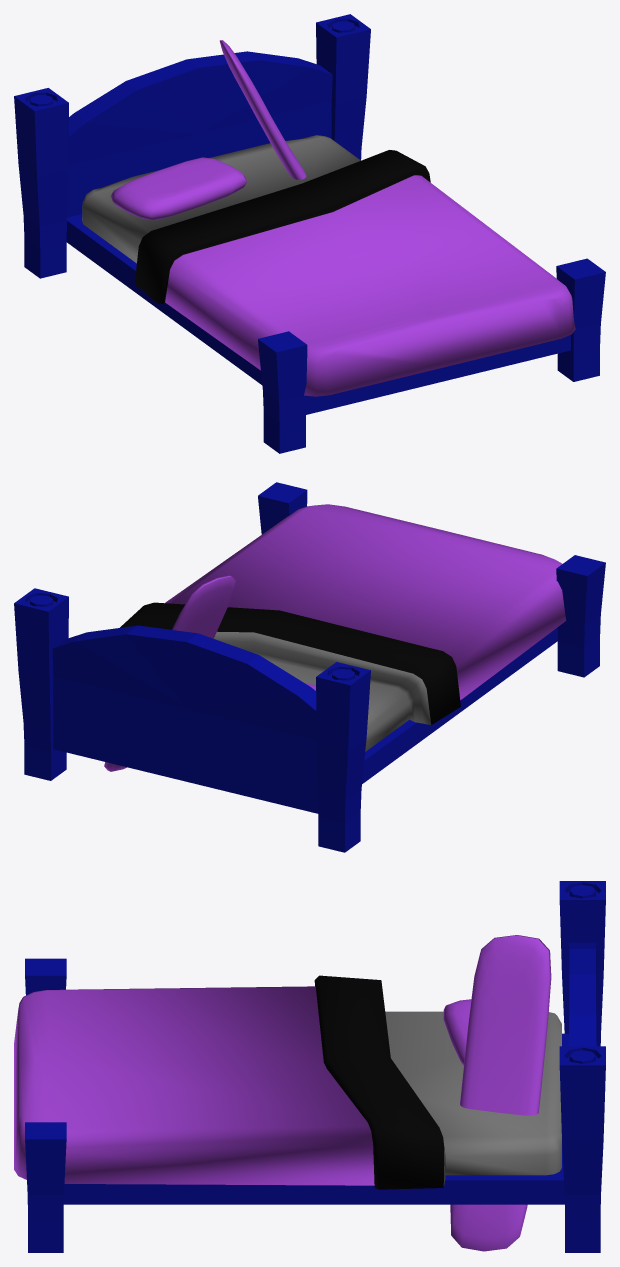
File: Bed 2.fbx
3 views of the same model, one above another, from view 1: azimuth 30°, elevation 25°; view 2: azimuth 150°, elevation 25°; view 3: azimuth 270°, elevation 25° (orthographic). The views are drawn at different scales.
Visible parts, largest first — view 1: bed.001, Armature.001, Oreillier.002, Oreillier.003; view 2: Armature.001, bed.001, Oreillier.003; view 3: bed.001, Armature.001, Oreillier.003, Oreillier.002.
Boxes of the visible parts, bbox=[...] form: bed.001: bbox=[82, 135, 575, 396]; Armature.001: bbox=[14, 14, 605, 453]; Oreillier.002: bbox=[111, 157, 246, 220]; Oreillier.003: bbox=[219, 40, 306, 179]; Armature.001: bbox=[14, 482, 605, 852]; bed.001: bbox=[120, 504, 566, 751]; Oreillier.003: bbox=[104, 575, 236, 771]; bed.001: bbox=[14, 975, 561, 1189]; Armature.001: bbox=[25, 881, 605, 1252]; Oreillier.003: bbox=[450, 935, 551, 1251]; Oreillier.002: bbox=[443, 999, 471, 1065].
Size of the model in its own units: 262 by 170 by 356.
